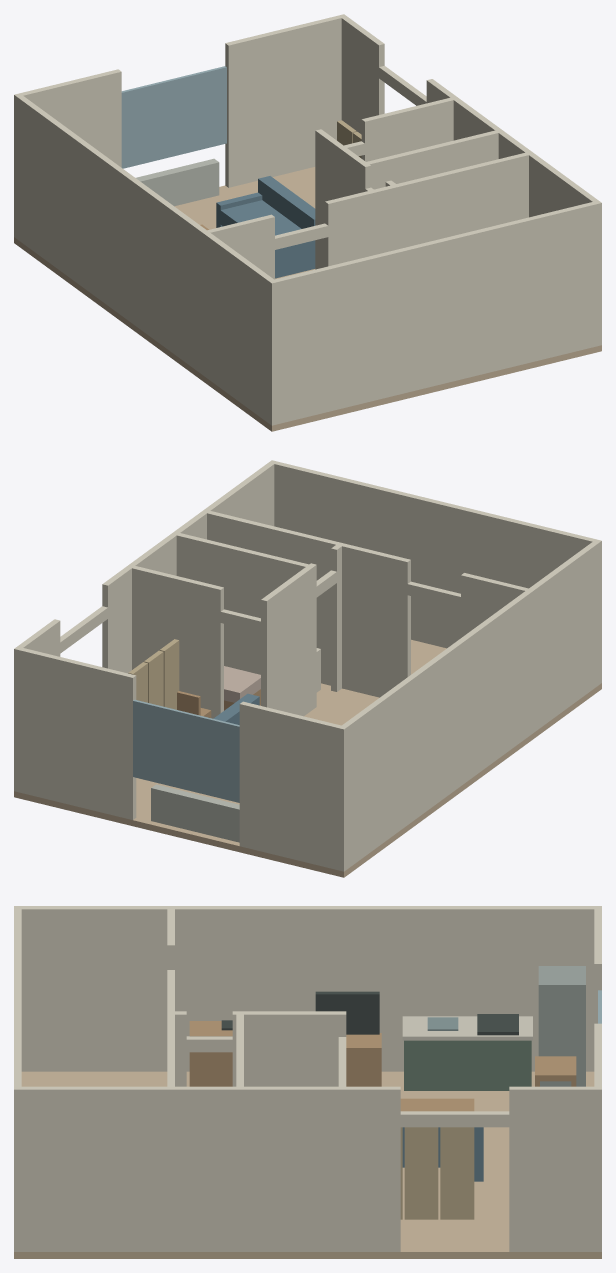
The picture shows the model from 3 angles, top to bottom: view 1: azimuth 30°, elevation 25°; view 2: azimuth 150°, elevation 25°; view 3: azimuth 270°, elevation 25°; orthographic projection. The views are drawn at different scales.
Parts seen in each view (by area): view 1: CORRIDORN_69, WW_4, WN2_2, WS2_11, CORRIDORW_70, NW_3, GROUND_0, WN1_1, BEDN_16, WE1_5, BATHN_20, BEDW_15 (+9 smaller); view 2: WW_4, CORRIDORN_69, WN2_2, WN1_1, WS2_11, CORRIDORW_70, BEDN_16, NW_3, GROUND_0, BEDW_15, BATHN_20, WE2_6 (+12 smaller); view 3: WW_4, WE2_6, CORRIDORE_71, CORRIDORW_70, GROUND_0, WE1_5, BEDW_15, K1_25, F1_27, SC1_58, SC2_59, CORRIDORN_69 (+16 smaller).
Boxes of the visible parts, x1,y1,x2,y2 form: CORRIDORN_69: (269,200,601,425); WW_4: (14,95,209,376); WN2_2: (225,14,346,187); WS2_11: (325,152,533,266); CORRIDORW_70: (204,233,274,423); NW_3: (121,66,226,168); GROUND_0: (14,167,601,431); WN1_1: (14,69,121,238); BEDN_16: (361,97,453,161); WE1_5: (339,14,384,134); BATHN_20: (366,130,498,189); BEDW_15: (315,129,371,269); WW_4: (338,588,534,871); CORRIDORN_69: (269,460,601,684); WN2_2: (14,646,136,819); WN1_1: (239,701,347,871); WS2_11: (202,510,410,697); CORRIDORW_70: (529,541,599,731); BEDN_16: (132,566,223,718); NW_3: (133,699,239,802); GROUND_0: (14,639,601,877); BEDW_15: (261,563,316,716); BATHN_20: (176,533,308,674); WE2_6: (102,509,209,673); WW_4: (167,906,601,1071); WE2_6: (167,1086,400,1251); CORRIDORE_71: (20,1086,167,1251); CORRIDORW_70: (20,906,167,1071); GROUND_0: (14,1071,601,1258); WE1_5: (509,1086,601,1251); BEDW_15: (232,1011,346,1086); K1_25: (404,1040,531,1090); F1_27: (538,966,585,1086); SC1_58: (440,1127,474,1219); SC2_59: (404,1127,438,1219); CORRIDORN_69: (14,906,21,1251).
Size of the model in its own units: 6.8 by 2.92 by 9.2.
